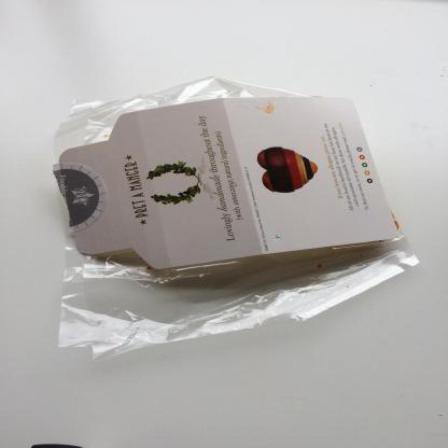Carton: (61, 98, 400, 271)
Plastic bag - wrapper: (54, 78, 422, 365)
